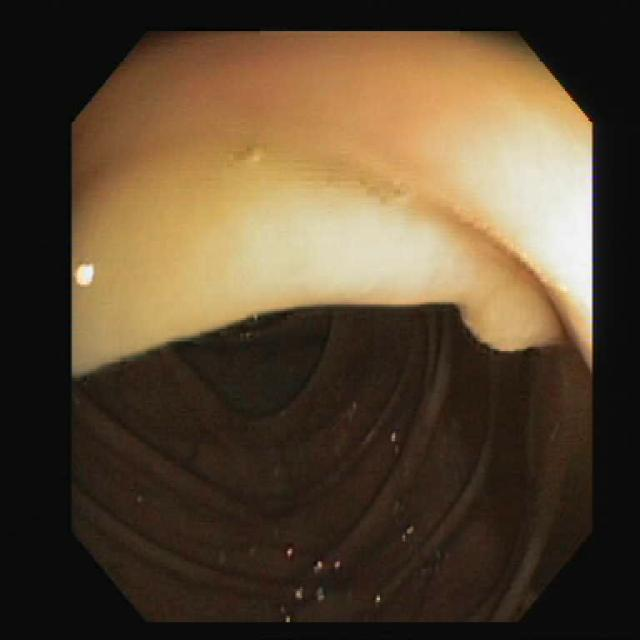tumor: (458, 276, 565, 349)
